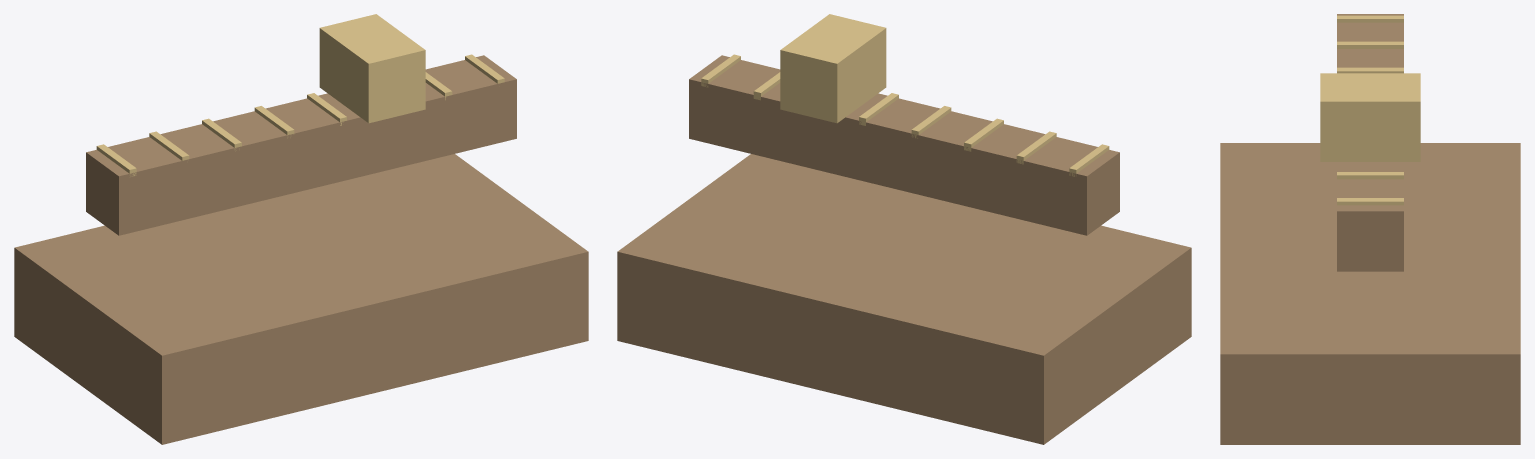
Rendered from FrequencySliderStand.fbx.
3 views of the same model, side by side, from view 1: azimuth 30°, elevation 25°; view 2: azimuth 150°, elevation 25°; view 3: azimuth 270°, elevation 25° (orthographic).
Visible parts, largest first — view 1: FrequencySliderStand; view 2: FrequencySliderStand; view 3: FrequencySliderStand.
Part boxes in pixels (x1,y1,x2,y2): FrequencySliderStand: (14, 14, 588, 444); FrequencySliderStand: (617, 14, 1191, 444); FrequencySliderStand: (1220, 14, 1520, 444).
Bounding box in the file's own units: 30 × 19 × 18.
